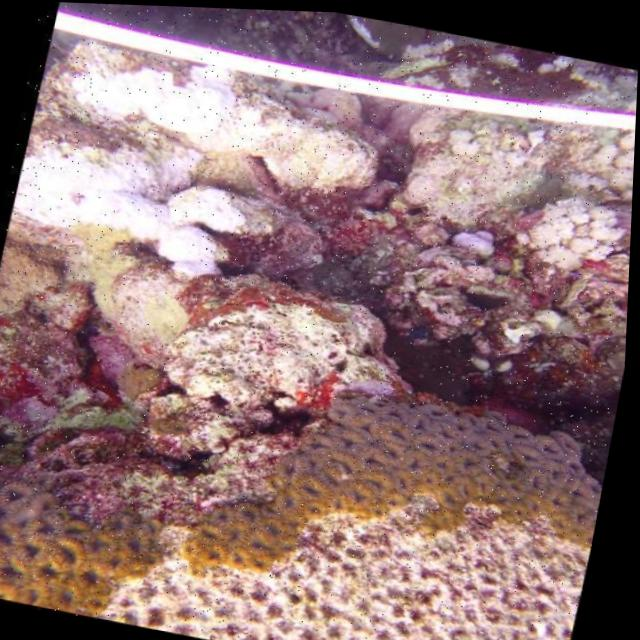Bleached Coral: (6, 122, 242, 277), (47, 26, 258, 149), (513, 45, 639, 196), (519, 158, 635, 300), (434, 215, 517, 264)
